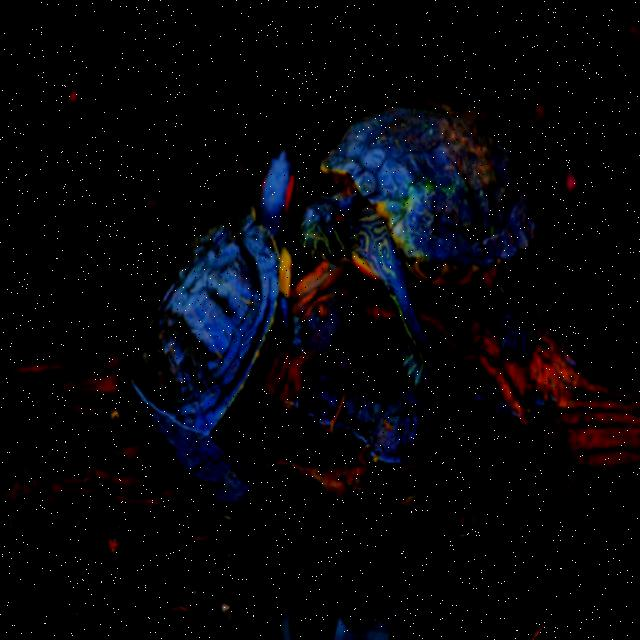tortoise: (126, 151, 302, 497), (312, 115, 546, 299)
